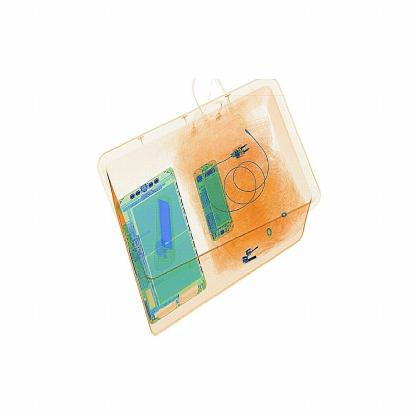pliers: (150, 195, 176, 268)
